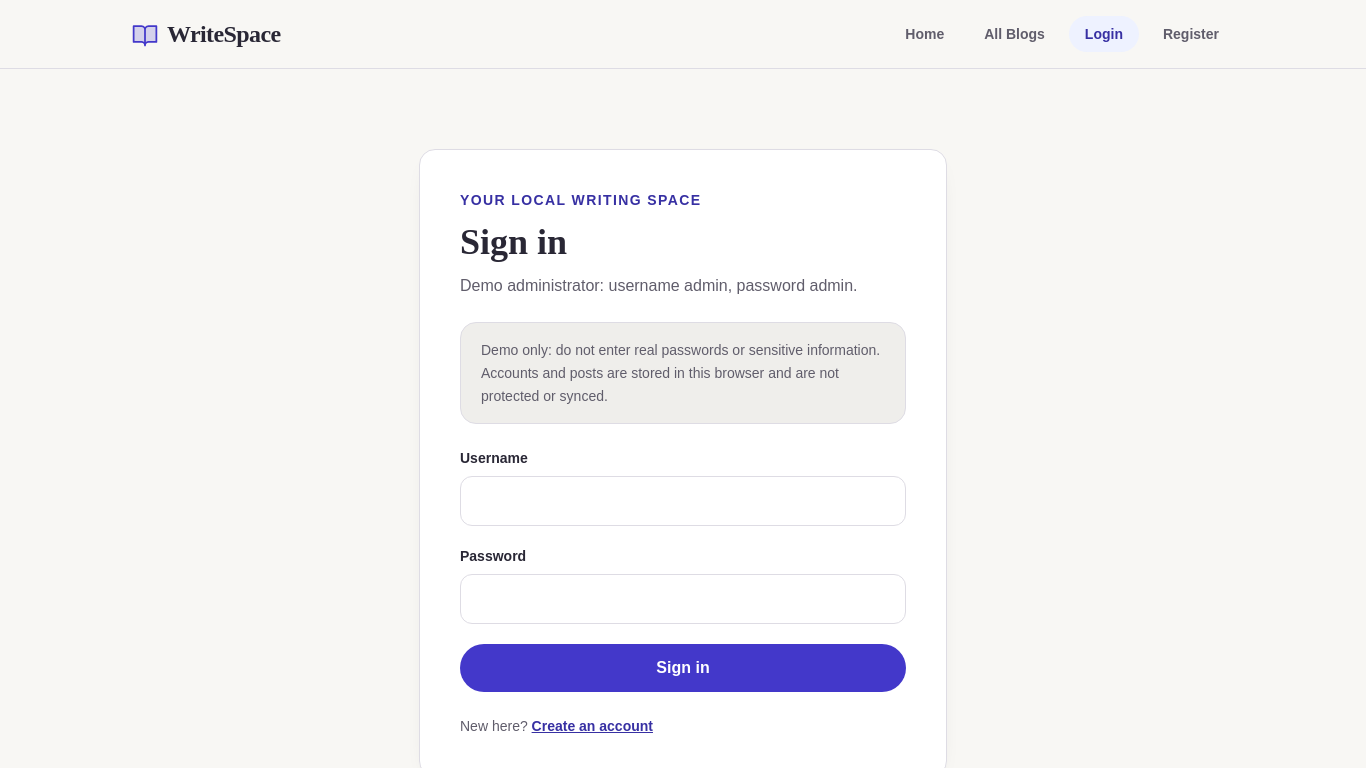
Test: identity forms and shell interactions › keeps login route and guest navbar on failed session save
In the field labelled "Username": (683, 501) x1=460 y1=476 x2=906 y2=526, type "admin"
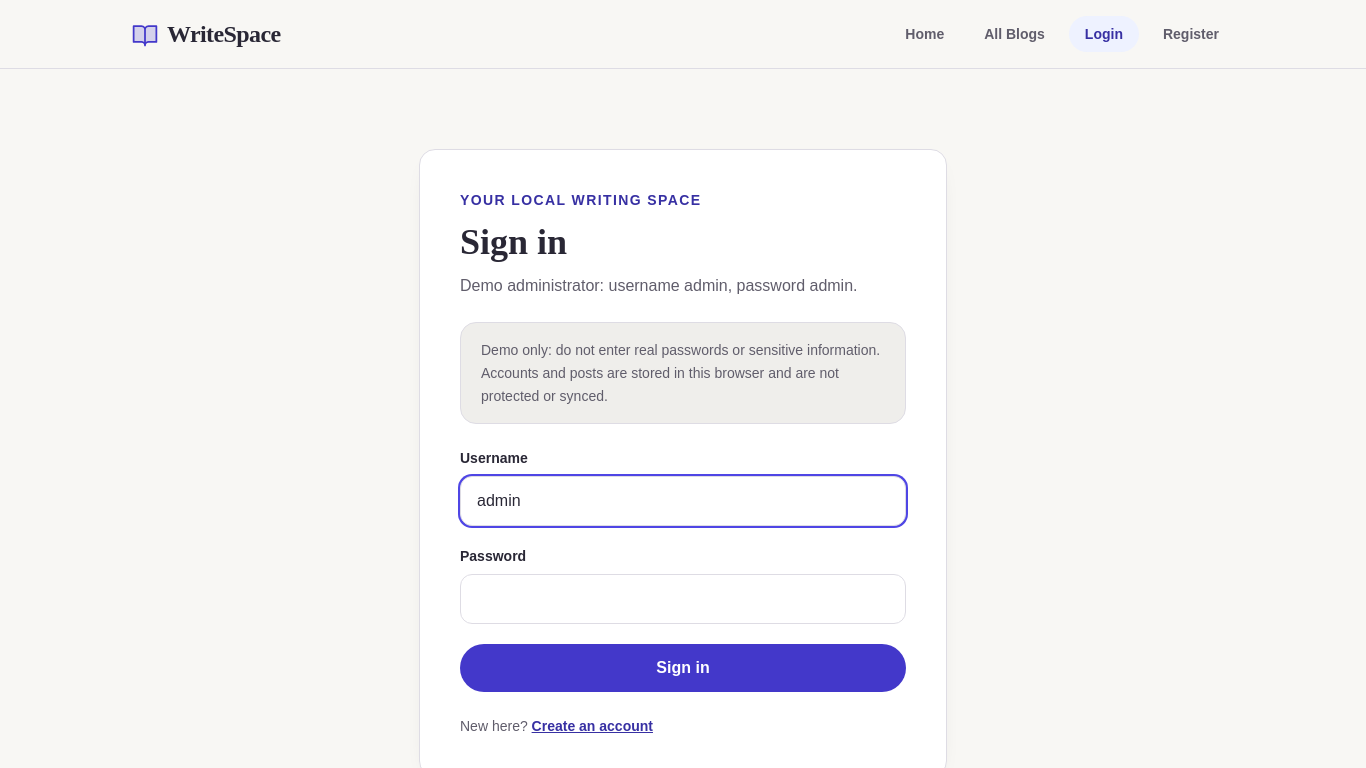
In the password field labelled "Password": (683, 599) x1=460 y1=574 x2=906 y2=624, type "admin"
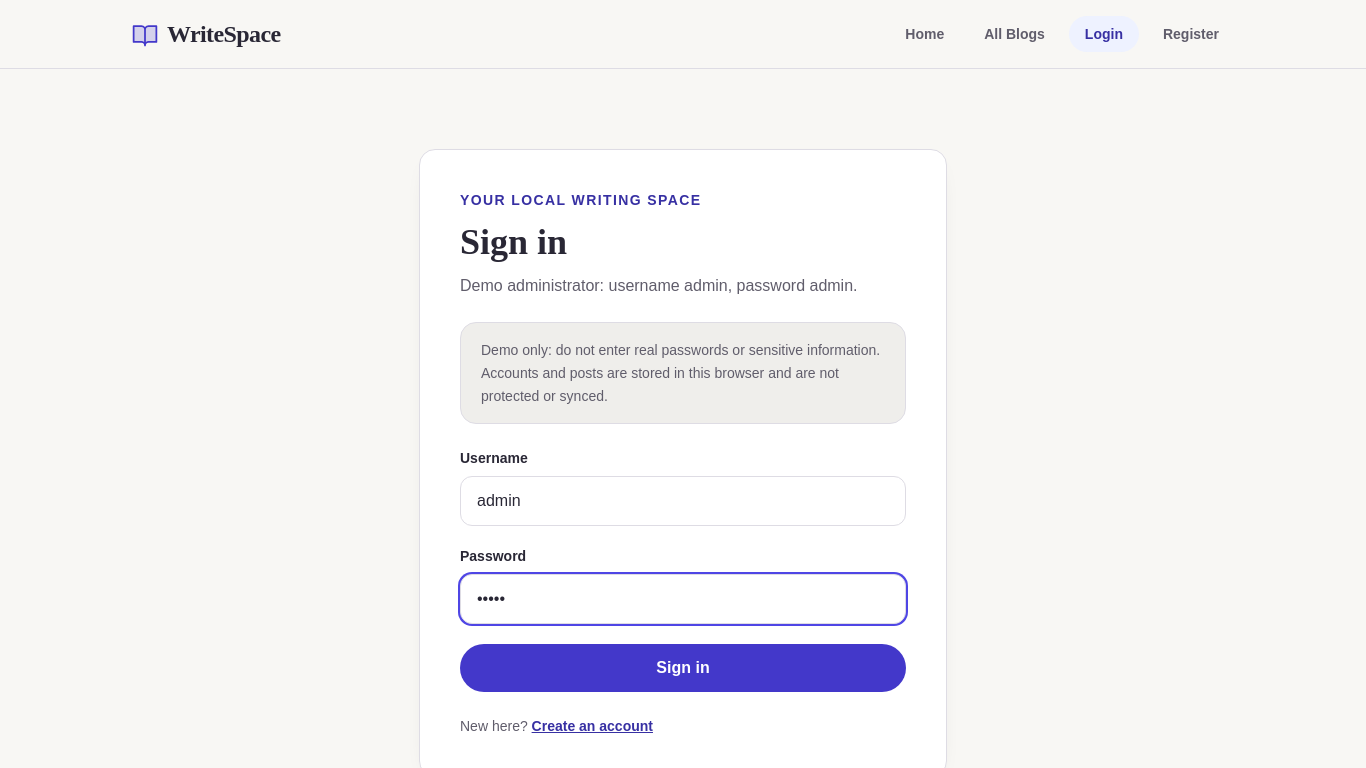
Click the button "Sign in": (683, 668) x1=460 y1=644 x2=906 y2=692
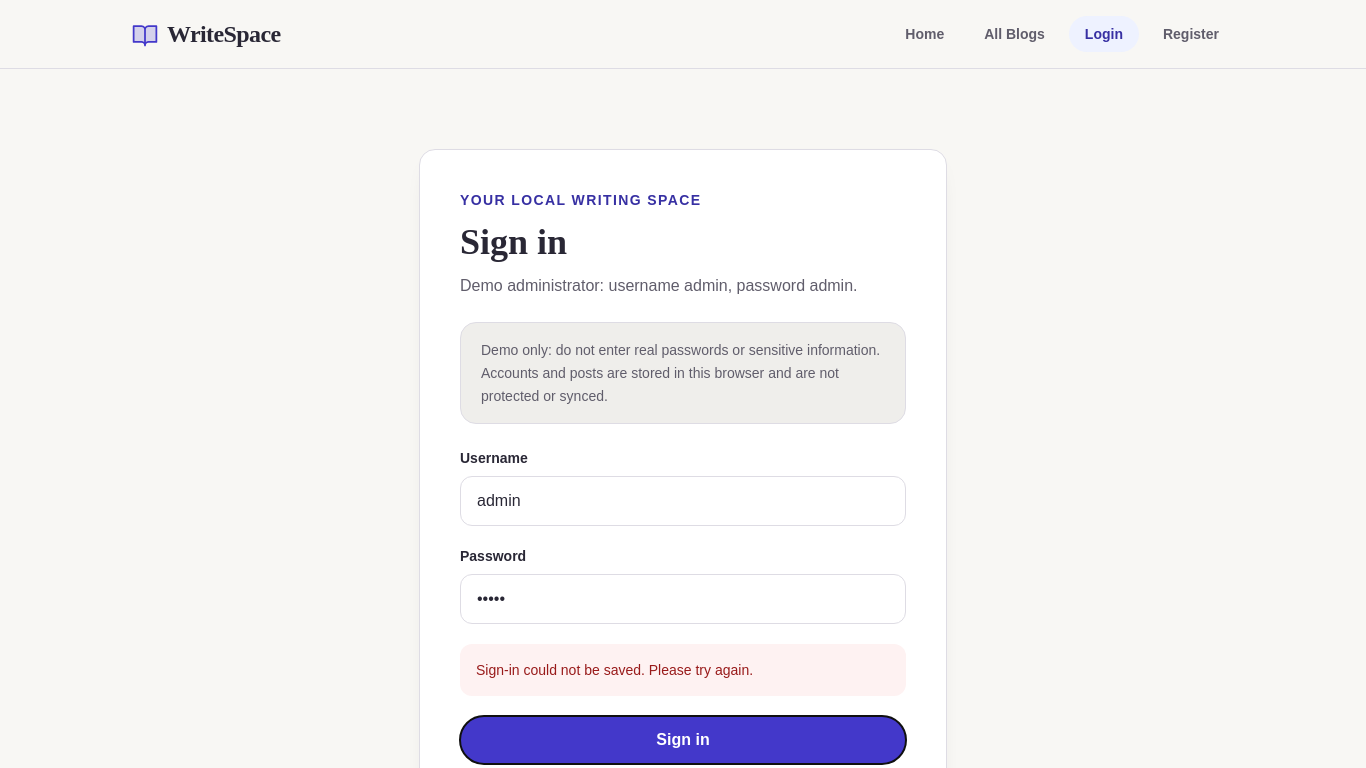
Now the message reads "Sign-in could not be saved. Please try again.", box x1=476 y1=662 x2=753 y2=678
